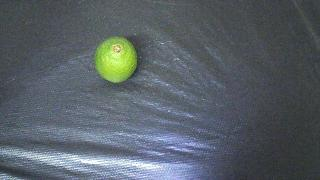LOCAL: (94, 37, 137, 83)
